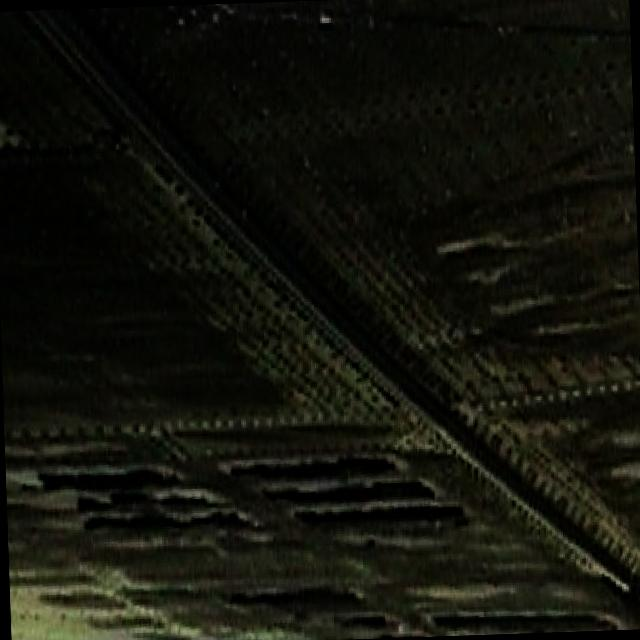crack: (433, 214, 640, 339)
